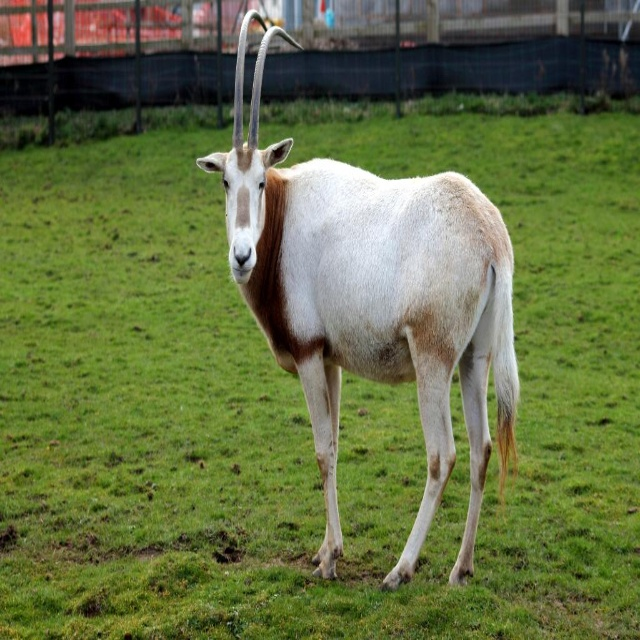Goat: (197, 10, 522, 587)
